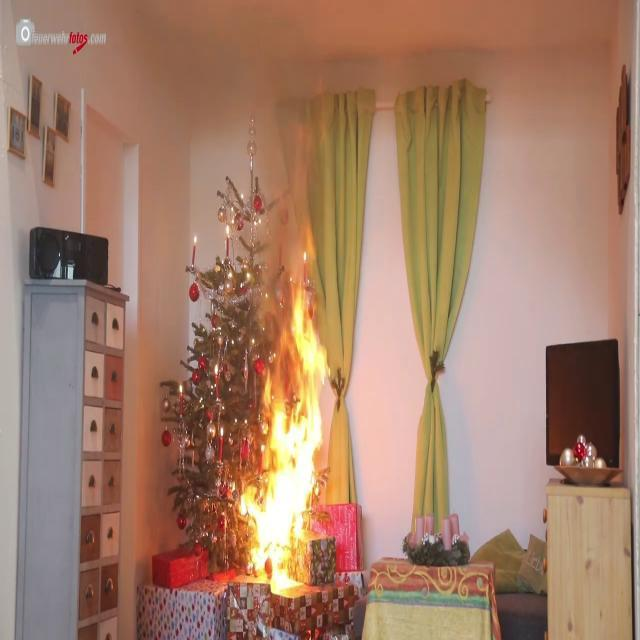Fire: (238, 260, 334, 610)
